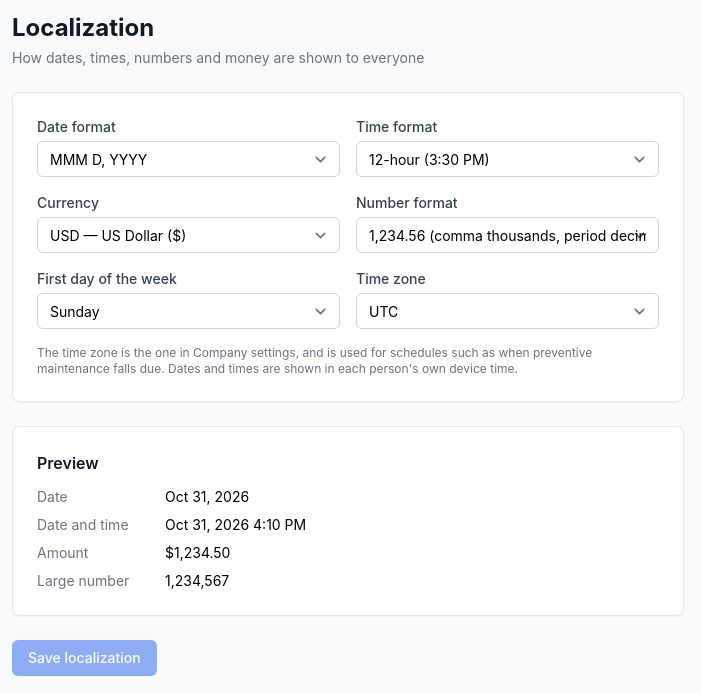
Test case: LocalizationPage › previews with the settings in the form, before anything is saved
Expected: the text with test id "preview-money" reads "$1,234.50", [165, 544, 230, 561]
Select "EUR — Euro (€)" in the dropdown labelled "Currency" at [188, 235], box [37, 217, 340, 253]
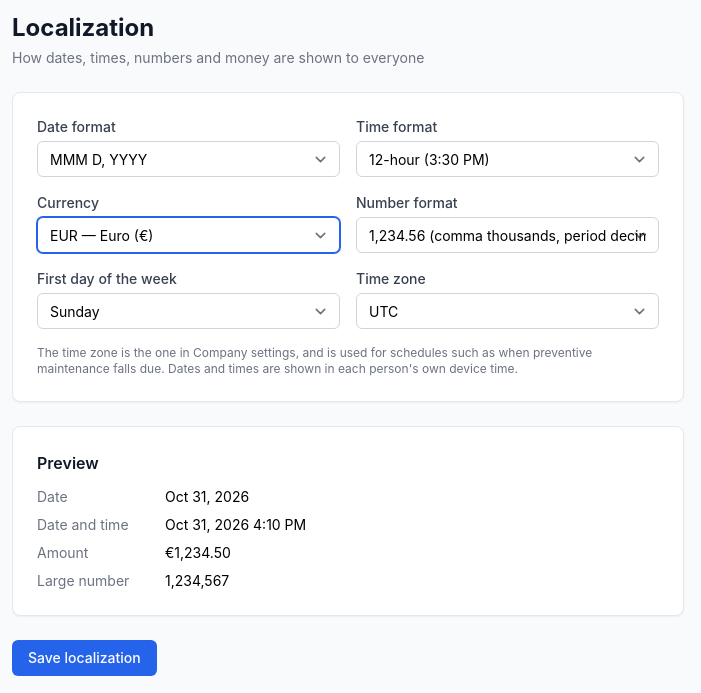
Select "1.234,56 (period thousands, comma decimal)" in the dropdown labelled "Number format" at [508, 235], box [356, 217, 659, 253]
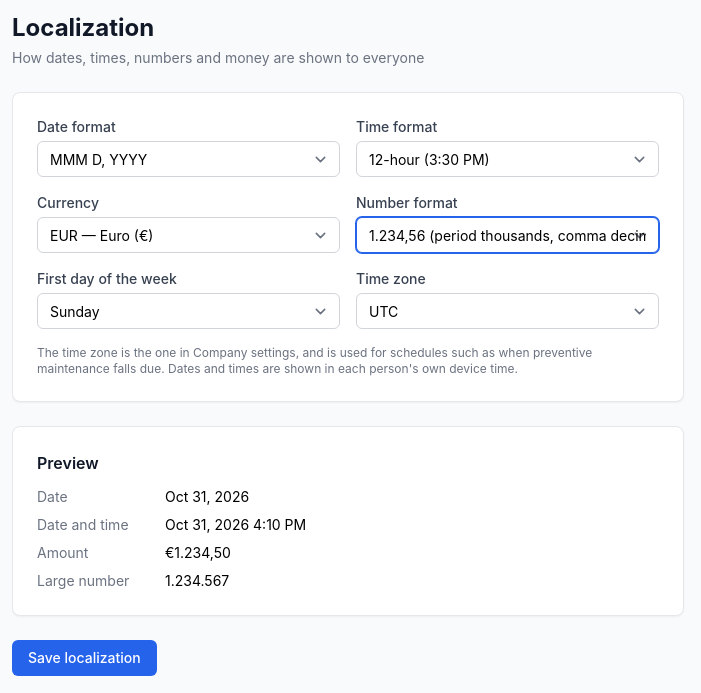
Select "24-hour (15:30)" in the dropdown labelled "Time format" at [508, 159], box [356, 141, 659, 177]
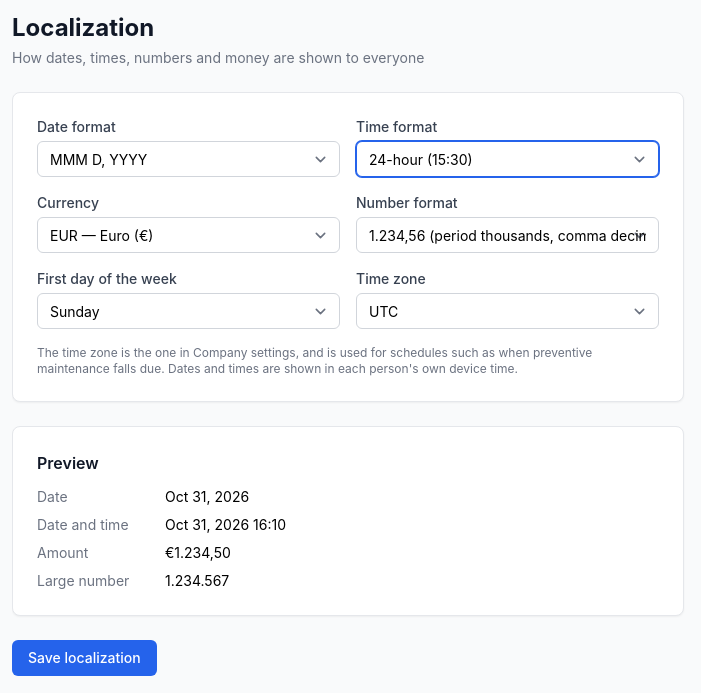
Now the text with test id "preview-money" reads "€1.234,50", box [165, 544, 231, 561]
Now the text with test id "preview-number" reads "1.234.567", box [165, 572, 229, 589]
Now the text with test id "preview-datetime" reads "Oct 31, 2026 16:10", box [165, 516, 286, 533]
